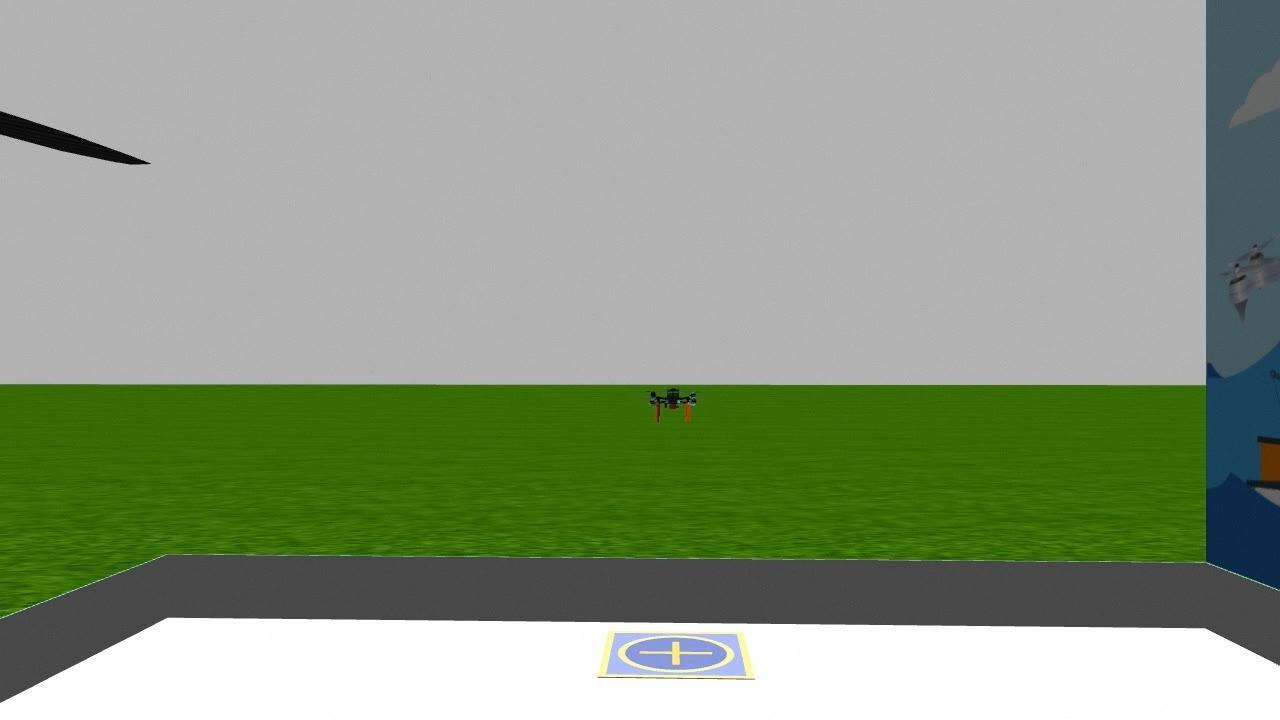UAV: (627, 376, 711, 434)
